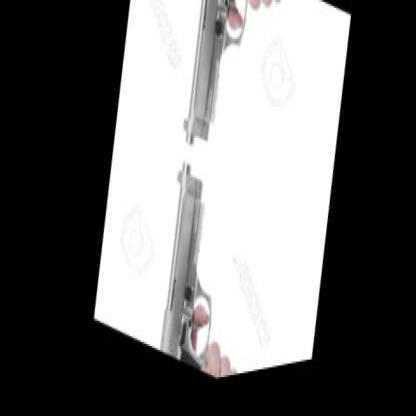pistol: (138, 151, 276, 390), (169, 0, 298, 204)
